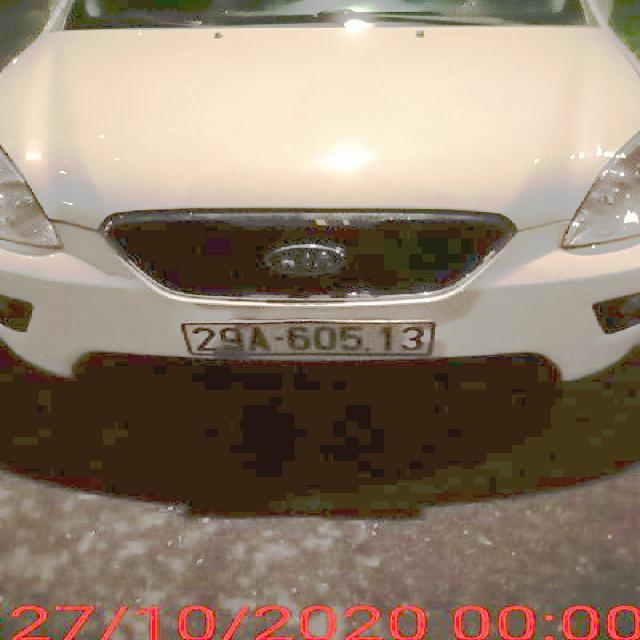license_plate: (182, 320, 437, 359)
